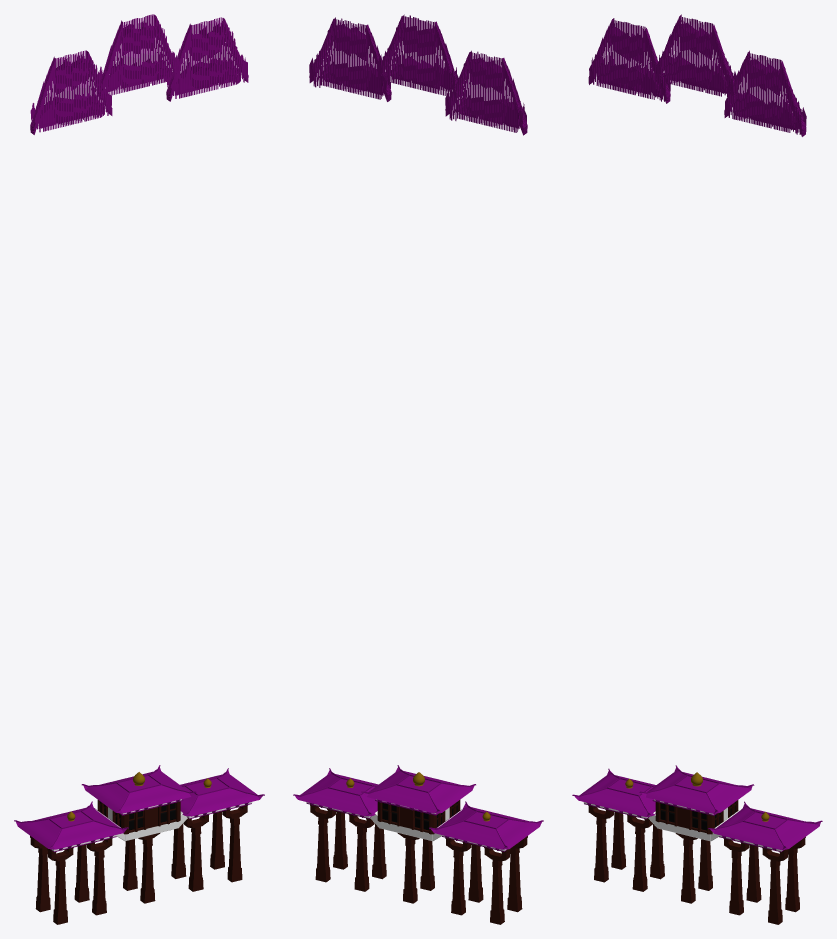
Rendered from Textured Qin Dynasty Building 1.fbx.
3 renders of one model, left to right at view 1: azimuth 30°, elevation 25°; view 2: azimuth 150°, elevation 25°; view 3: azimuth 330°, elevation 25°, orthographic.
Parts seen in each view (by area): view 1: epangroof_sm_shingles_shingles1_pCube64 (×3), epangroof_sm_shingles_shingles_pCube13 (×3), epangroof_sm2, epangroof_sm, epangroof_sm1, pCube271, pCube273, pCube278, pCube272, pCube224, pCube275, pCube239 (+6 smaller); view 2: epangroof_sm_shingles_shingles_pCube13 (×3), epangroof_sm_shingles_shingles1_pCube64 (×3), epangroof_sm2, epangroof_sm, epangroof_sm1, pCube272, pCube274, pCube279, pCube277, pCube268, pCube271, pCube276 (+6 smaller); view 3: epangroof_sm_shingles_shingles1_pCube64 (×3), epangroof_sm_shingles_shingles_pCube13 (×3), epangroof_sm1, epangroof_sm, epangroof_sm2, pCube278, pCube271, pCube273, pCube224, pCube279, pCube275, pCube239 (+5 smaller).
Boxes of the visible parts, box(x1,y1,x2,y2) form: epangroof_sm_shingles_shingles1_pCube64 (×3): box(37, 15, 246, 132); epangroof_sm_shingles_shingles_pCube13 (×3): box(32, 14, 239, 129); epangroof_sm2: box(14, 801, 128, 849); epangroof_sm: box(81, 765, 196, 813); epangroof_sm1: box(180, 768, 264, 816); pCube271: box(47, 847, 73, 924); pCube273: box(86, 838, 112, 915); pCube278: box(222, 805, 247, 882); pCube272: box(30, 836, 50, 912); pCube224: box(124, 801, 180, 834); pCube275: box(138, 833, 160, 903); pCube239: box(188, 826, 203, 891); epangroof_sm_shingles_shingles_pCube13 (×3): box(311, 16, 521, 132); epangroof_sm_shingles_shingles1_pCube64 (×3): box(318, 14, 524, 128); epangroof_sm2: box(429, 801, 543, 849); epangroof_sm: box(361, 765, 475, 813); epangroof_sm1: box(293, 768, 378, 816); pCube272: box(484, 847, 510, 924); pCube274: box(445, 837, 471, 915); pCube279: box(310, 804, 335, 882); pCube277: box(348, 814, 374, 891); pCube268: box(377, 801, 433, 834); pCube271: box(507, 836, 527, 912); pCube276: box(397, 833, 419, 903); epangroof_sm_shingles_shingles1_pCube64 (×3): box(591, 18, 799, 134); epangroof_sm_shingles_shingles_pCube13 (×3): box(594, 17, 802, 134); epangroof_sm1: box(708, 801, 822, 850); epangroof_sm: box(639, 765, 754, 813); epangroof_sm2: box(572, 768, 655, 817); pCube278: box(762, 847, 788, 924); pCube271: box(588, 805, 613, 882); pCube273: box(627, 814, 652, 891); pCube224: box(655, 802, 711, 834); pCube279: box(785, 837, 805, 912); pCube275: box(675, 833, 697, 903); pCube239: box(729, 850, 743, 915).
Bounding box in the file's own units: 32.16 × 126 × 9.45.
